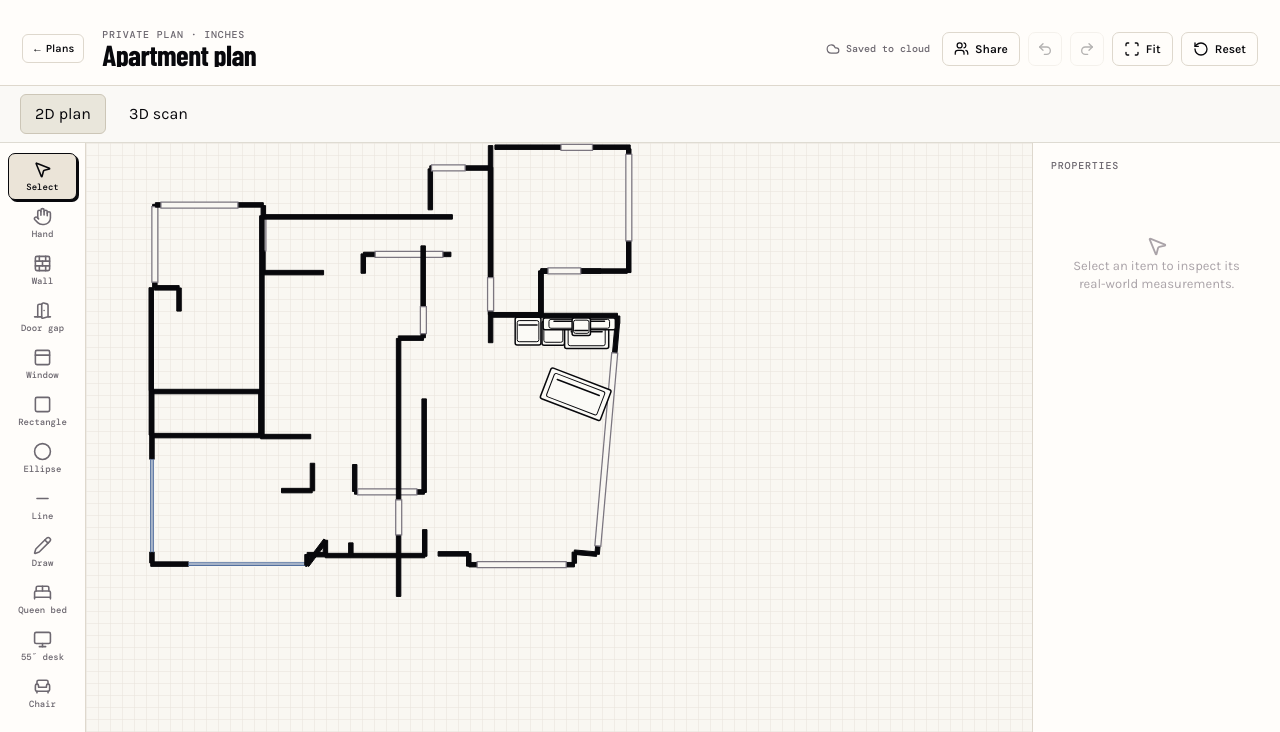
Test: FloorPlannerApp › switches tools and retains precision snap affordance
This screenshot has width=1280, height=732.
Click the button "Wall" at (42, 270), box [8,247,77,294]
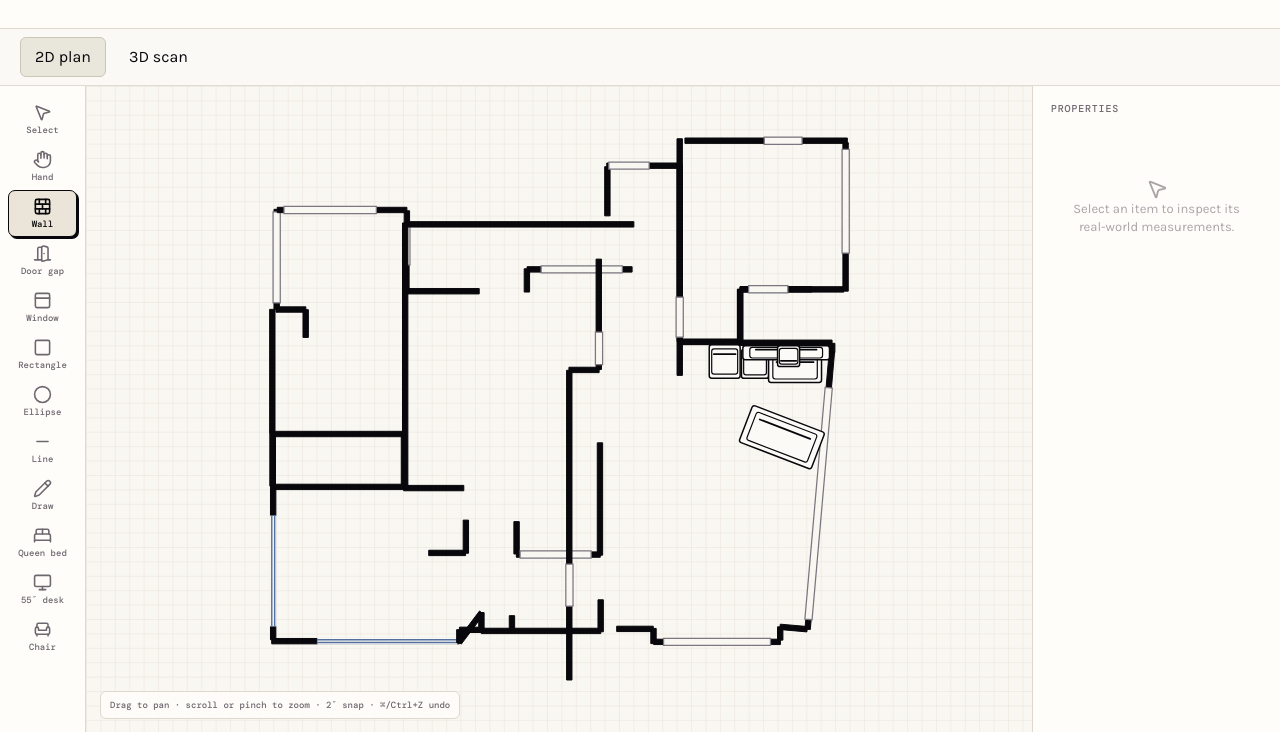
Now the text "2″ snap" is shown, box [110,699,450,711]
